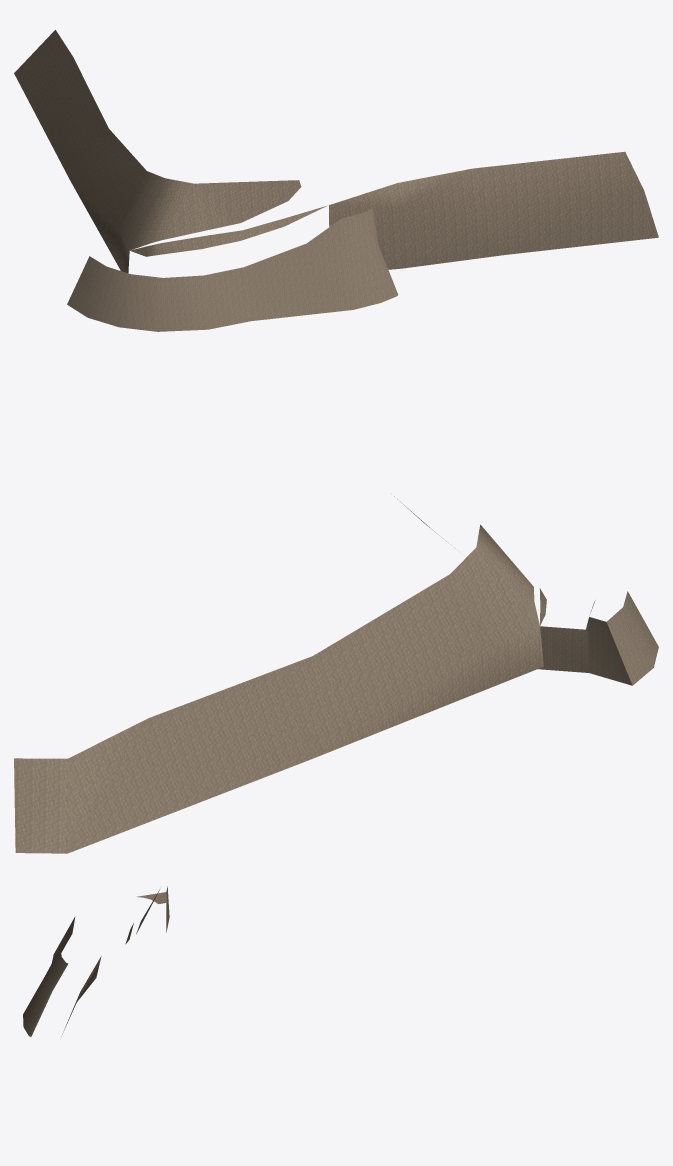
Rendered from kd_stage_1363c5_6_8.glb.
3 views of the same model, one above another, from view 1: azimuth 30°, elevation 25°; view 2: azimuth 150°, elevation 25°; view 3: azimuth 270°, elevation 25° (orthographic). The views are drawn at different scales.
Visible parts, largest first — view 1: kd_stage_1363c5_6_8; view 2: kd_stage_1363c5_6_8; view 3: kd_stage_1363c5_6_8.
Part boxes in pixels (x1,y1,x2,y2): kd_stage_1363c5_6_8: (14, 30, 658, 331); kd_stage_1363c5_6_8: (14, 496, 658, 853); kd_stage_1363c5_6_8: (23, 886, 169, 1036).
Bounding box in the file's own units: 312 × 54.82 × 360.
1 material, 1 textured.
